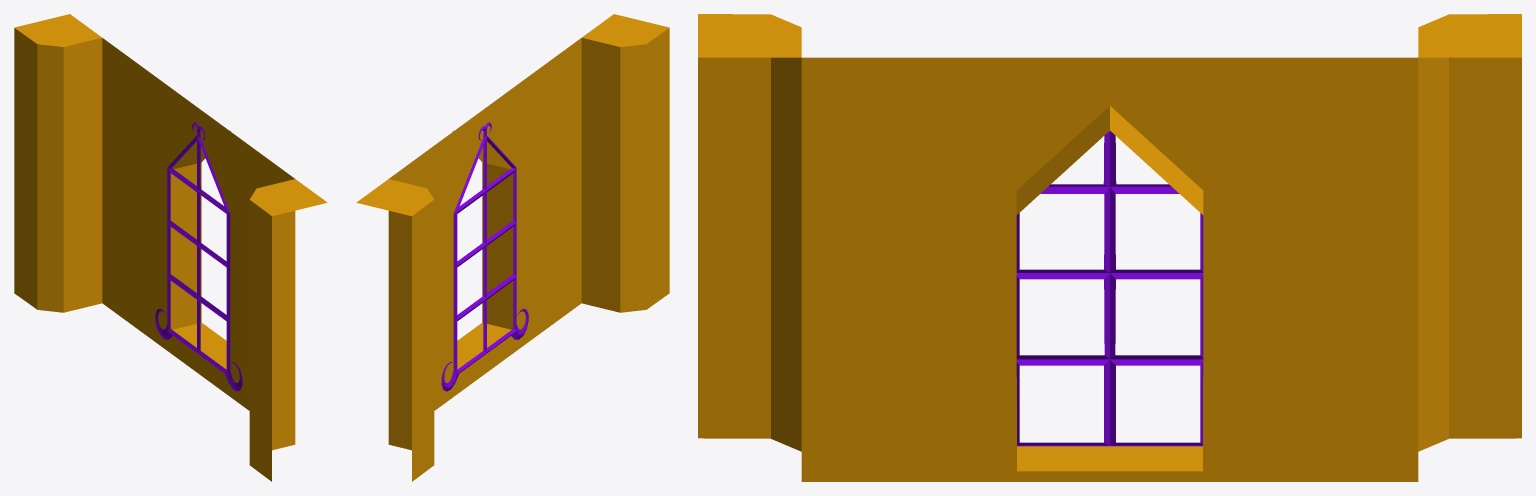
File: side_wall_window.fbx
The picture shows the model from 3 angles, left to right: view 1: azimuth 30°, elevation 25°; view 2: azimuth 150°, elevation 25°; view 3: azimuth 270°, elevation 25°; orthographic projection. The views are drawn at different scales.
Visible parts, largest first — view 1: side_wall_window, window_frame; view 2: side_wall_window, window_frame; view 3: side_wall_window, window_frame.
Part boxes in pixels (x1,y1,x2,y2): side_wall_window: [14, 14, 327, 481]; window_frame: [155, 122, 242, 391]; side_wall_window: [356, 14, 669, 481]; window_frame: [441, 122, 528, 391]; side_wall_window: [698, 14, 1521, 481]; window_frame: [1016, 131, 1203, 446].
Size of the model in its own units: 118 by 341 by 600.
